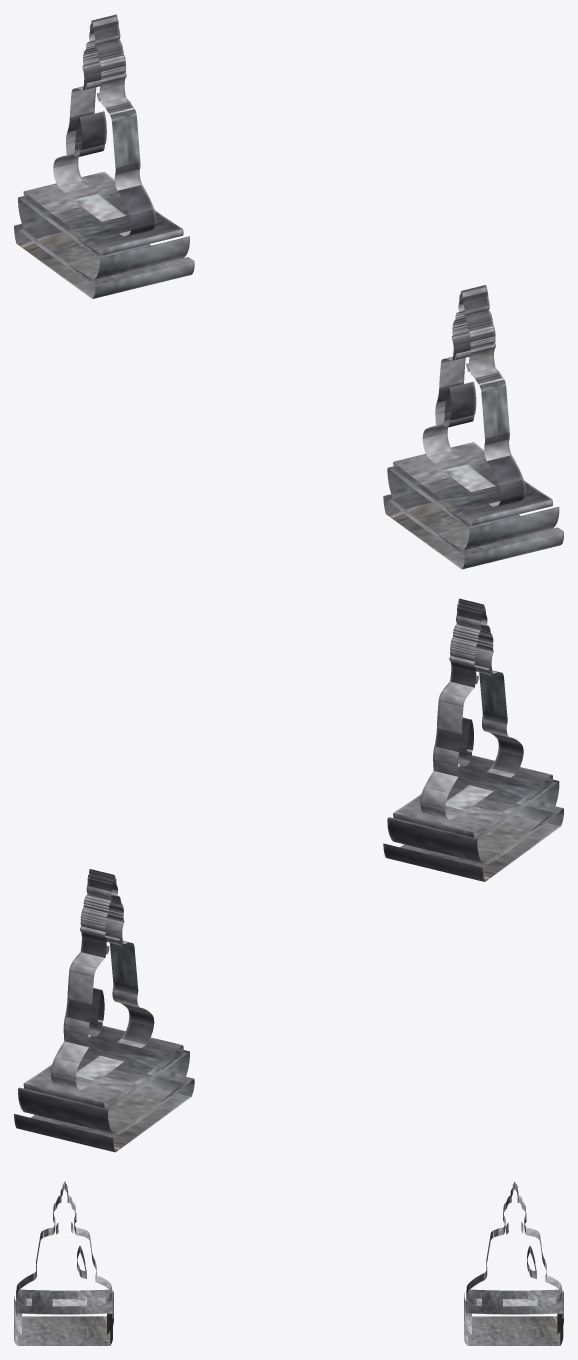
Rendered from 25_openskp_material_79.obj.
The picture shows the model from 3 angles, top to bottom: view 1: azimuth 30°, elevation 25°; view 2: azimuth 150°, elevation 25°; view 3: azimuth 270°, elevation 25°; orthographic projection. The views are drawn at different scales.
Visible parts, largest first — view 1: 25_openskp_material_79; view 2: 25_openskp_material_79; view 3: 25_openskp_material_79.
Boxes of the visible parts, left/top/right/bottom form: 25_openskp_material_79: left=14, top=14, right=563, bottom=569; 25_openskp_material_79: left=14, top=598, right=563, bottom=1152; 25_openskp_material_79: left=14, top=1181, right=563, bottom=1345.
Size of the model in its own units: 1.46 by 3.38 by 11.47.
Materials: 1 (1 with a texture image).
